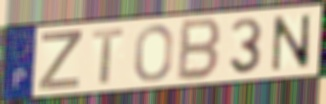3: (228, 16, 264, 75)
B: (175, 16, 224, 83)
N: (271, 12, 312, 73)
O: (132, 23, 175, 84)
T: (91, 26, 126, 87)
Z: (36, 29, 84, 93)
